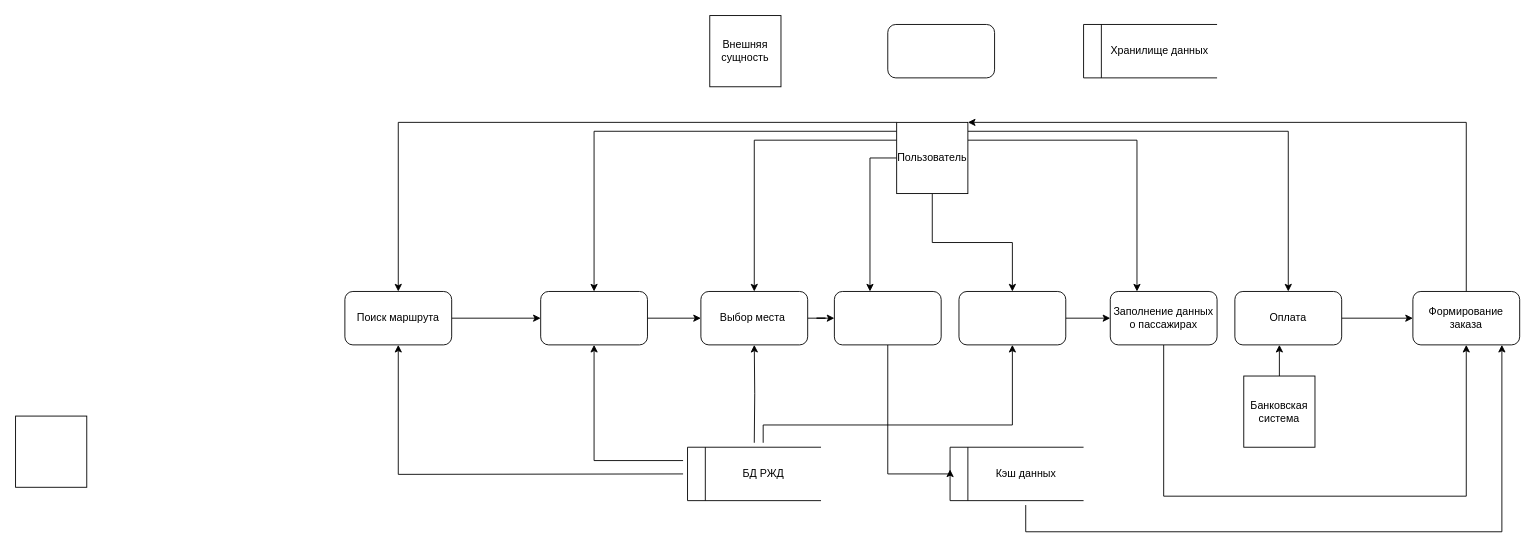
Image size: 1535x554. Some labels were removed from this diagram. The shapes that lost their labels are listed below. From the top down, each one's centre as x and y in pixels, then its label:
point (941, 51): Процесс
point (593, 318): Выбор поезда
point (887, 318): Бронирование места
point (1012, 318): Вход в аккаунт
